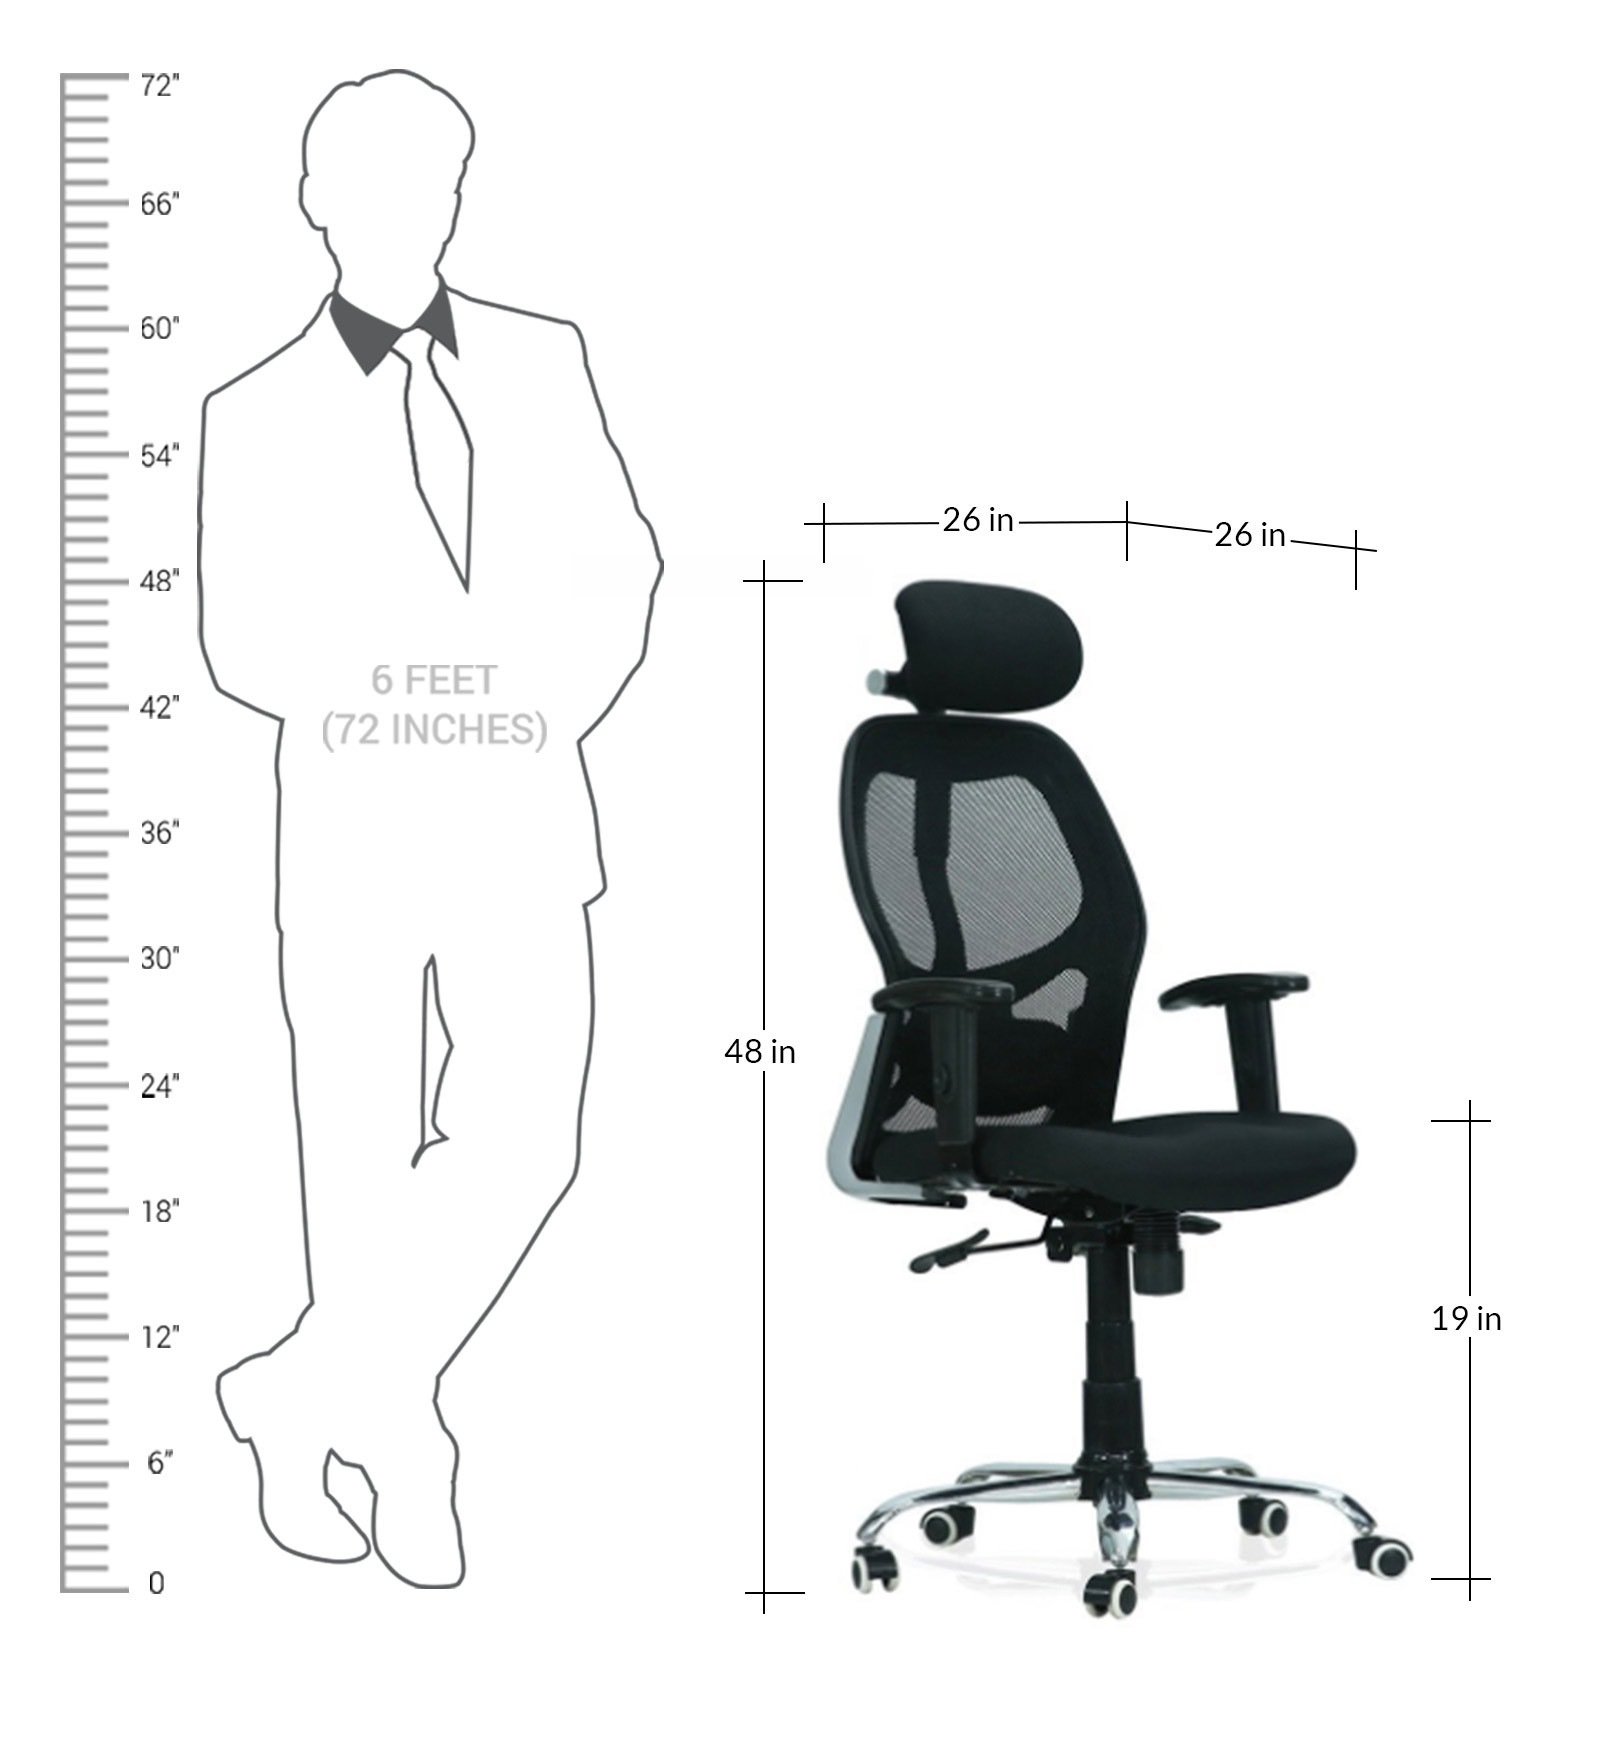Swivel High Back Ergonomic Chair with headrest In Black Colour By Furniease: (811, 553, 1438, 1700)
